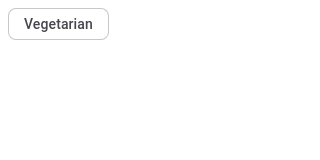
Test: FilterChip › toggles with aria-pressed
The width and height of the screenshot is (320, 160).
What coordinates should you click on to do the following:
click the button "Vegetarian"
I would click on:
 (58, 24)
Its box is [8,8,109,40].
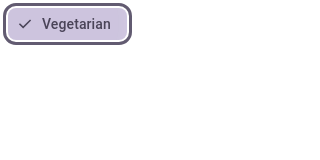
Now the button "Vegetarian" is pressed, box [8,8,127,40]
